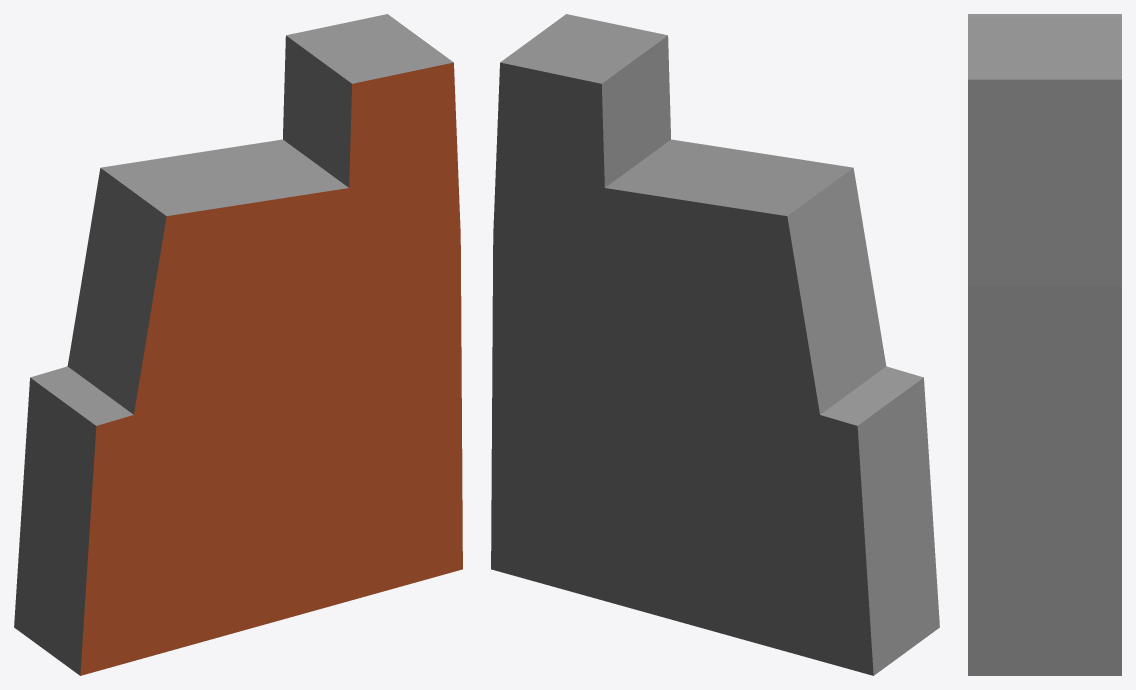
Rendered from construction_2495_assumed_A_Casa_h6m.obj.
The picture shows the model from 3 angles, left to right: view 1: azimuth 30°, elevation 25°; view 2: azimuth 150°, elevation 25°; view 3: azimuth 270°, elevation 25°; orthographic projection. The views are drawn at different scales.
Parts seen in each view (by area): view 1: construction_2495_assumed_A_Casa; view 2: construction_2495_assumed_A_Casa; view 3: construction_2495_assumed_A_Casa.
Part boxes in pixels (bbox=[...]): construction_2495_assumed_A_Casa: bbox=[14, 14, 462, 675]; construction_2495_assumed_A_Casa: bbox=[491, 14, 939, 675]; construction_2495_assumed_A_Casa: bbox=[968, 14, 1121, 675].
Size of the model in its own units: 19.99 by 26.25 by 6.
